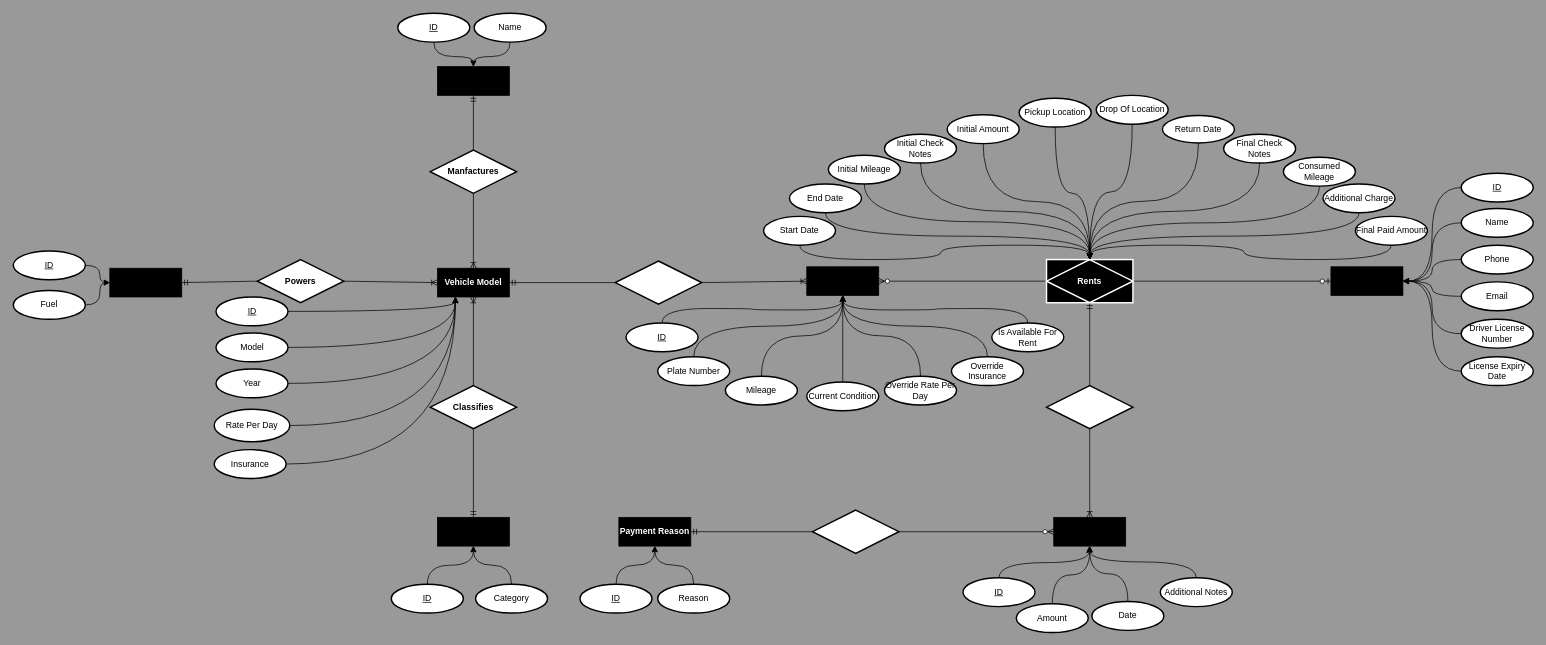
Some shapes in this 1546 by 645 pixel diagram are drawn without their labels. Here are the shapes that lost their labels. From the top down, the centre of each, then its label:
At (x=473, y=80): "Vehicle Make".
At (x=145, y=282): "Fuels".
At (x=658, y=282): "Templates".
At (x=842, y=281): "Individual Vehicle".
At (x=1366, y=281): "Customer".
At (x=1089, y=406): "Settled By".
At (x=473, y=531): "Vehicle Category".
At (x=855, y=531): "Justified By".
At (x=1089, y=531): "Payment".
